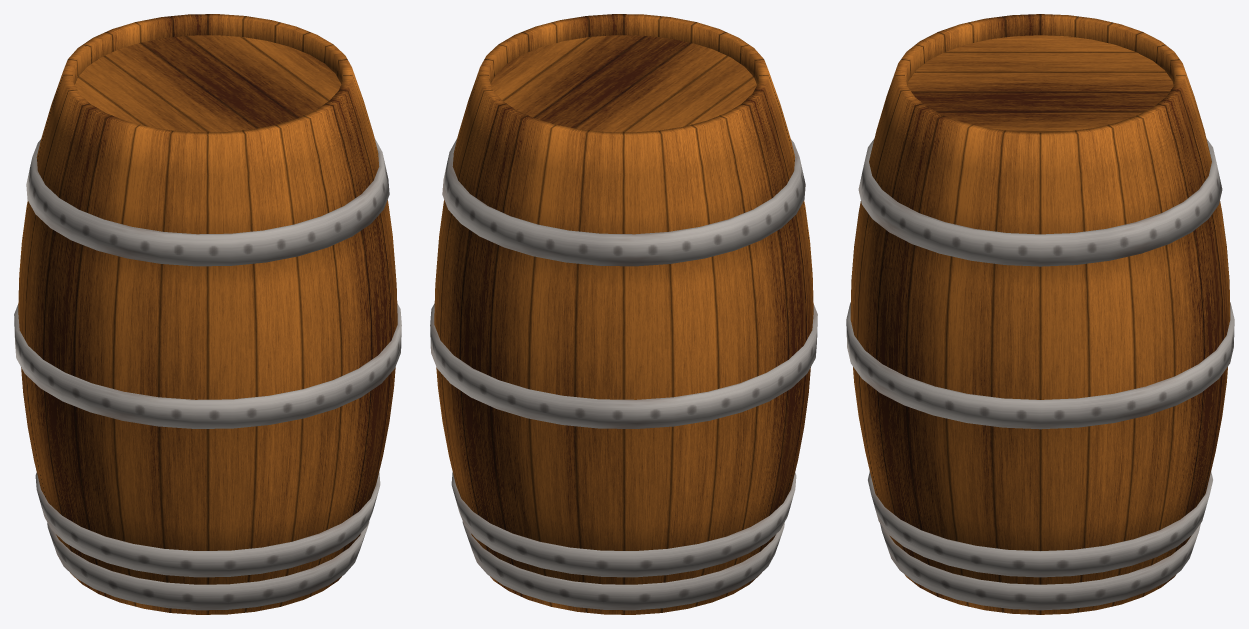
The model's file is mm6_deco_keg.glb.
The picture shows the model from 3 angles, left to right: view 1: azimuth 30°, elevation 25°; view 2: azimuth 150°, elevation 25°; view 3: azimuth 270°, elevation 25°; orthographic projection.
Visible parts, largest first — view 1: Keg; view 2: Keg; view 3: Keg.
Part boxes in pixels (bbox=[...]): Keg: bbox=[14, 14, 401, 614]; Keg: bbox=[430, 14, 817, 614]; Keg: bbox=[846, 14, 1234, 614].
Size of the model in its own units: 0.7359 by 1 by 0.7359.
Materials: 2 (2 with a texture image).
